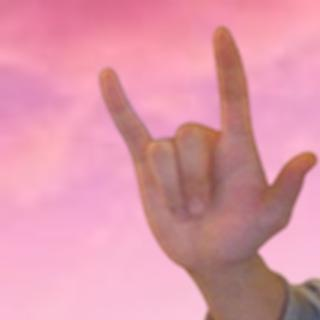ILY: (89, 20, 320, 279)
